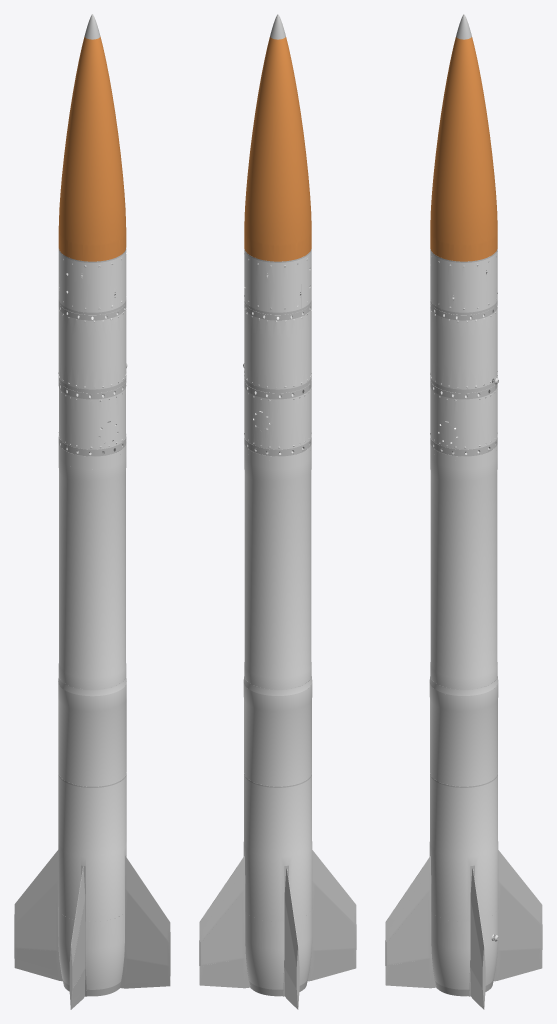
3 renders of one model, left to right at view 1: azimuth 30°, elevation 25°; view 2: azimuth 150°, elevation 25°; view 3: azimuth 330°, elevation 25°, orthographic.
Visible parts, largest first — view 1: 000_asm_FullRocket; view 2: 000_asm_FullRocket; view 3: 000_asm_FullRocket.
Boxes of the visible parts, x1,y1,x2,y2 form: 000_asm_FullRocket: (14, 14, 170, 1009); 000_asm_FullRocket: (199, 14, 356, 1009); 000_asm_FullRocket: (385, 14, 542, 1009).
Size of the model in its own units: 0.4331 by 3.96 by 0.4331.
